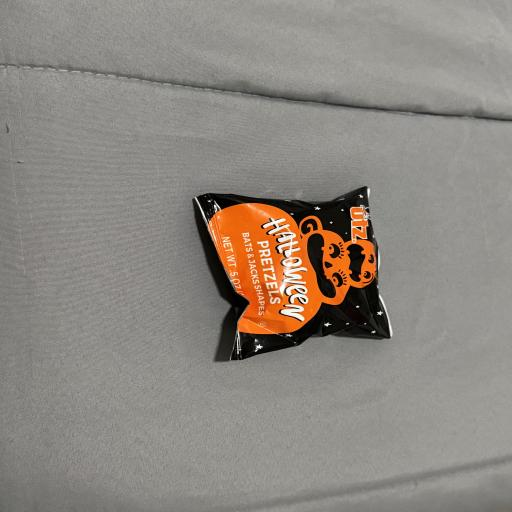chocolate: (196, 188, 392, 359)
